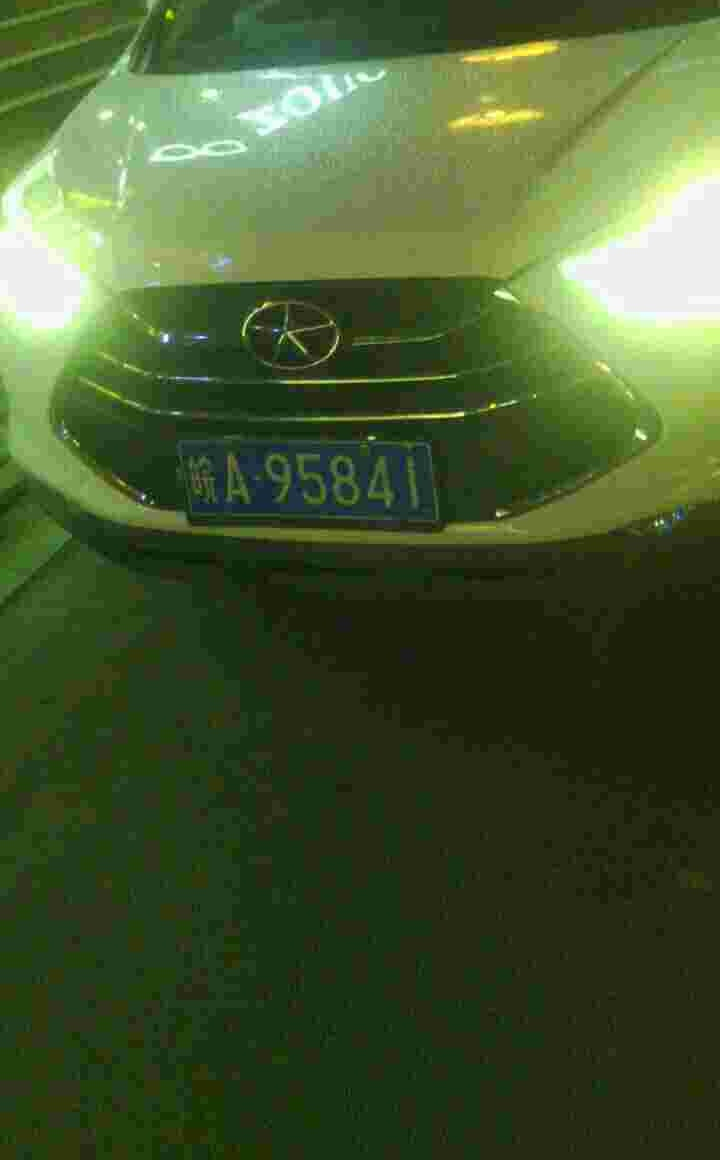plate: (175, 434, 446, 525)
